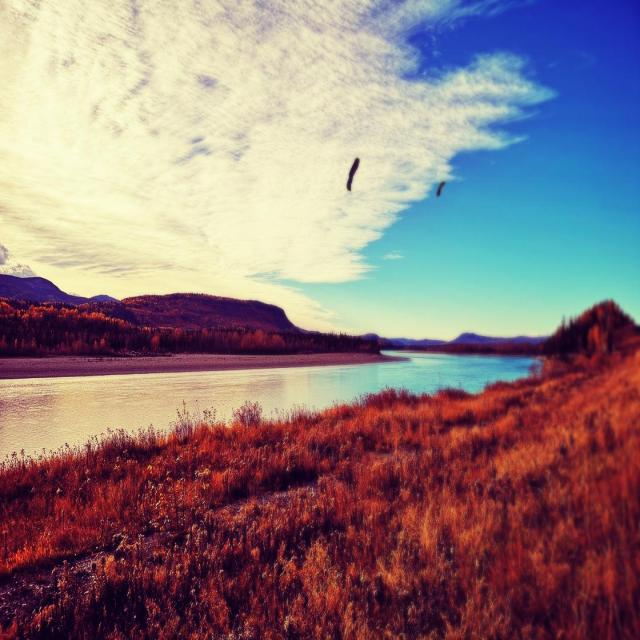airplane: (347, 157, 360, 190), (437, 181, 446, 198)
